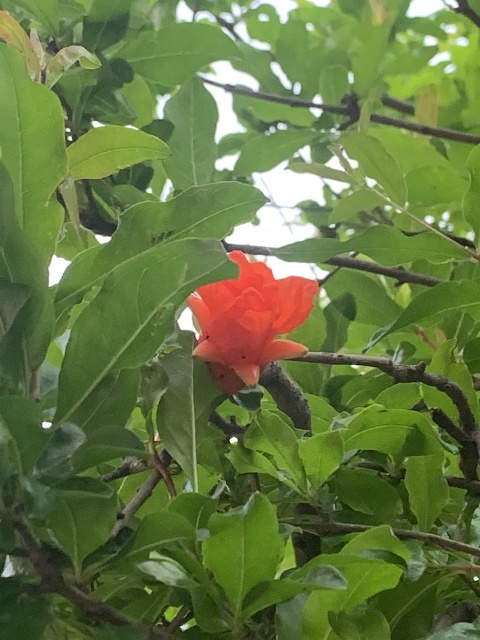flower: (185, 248, 319, 391)
